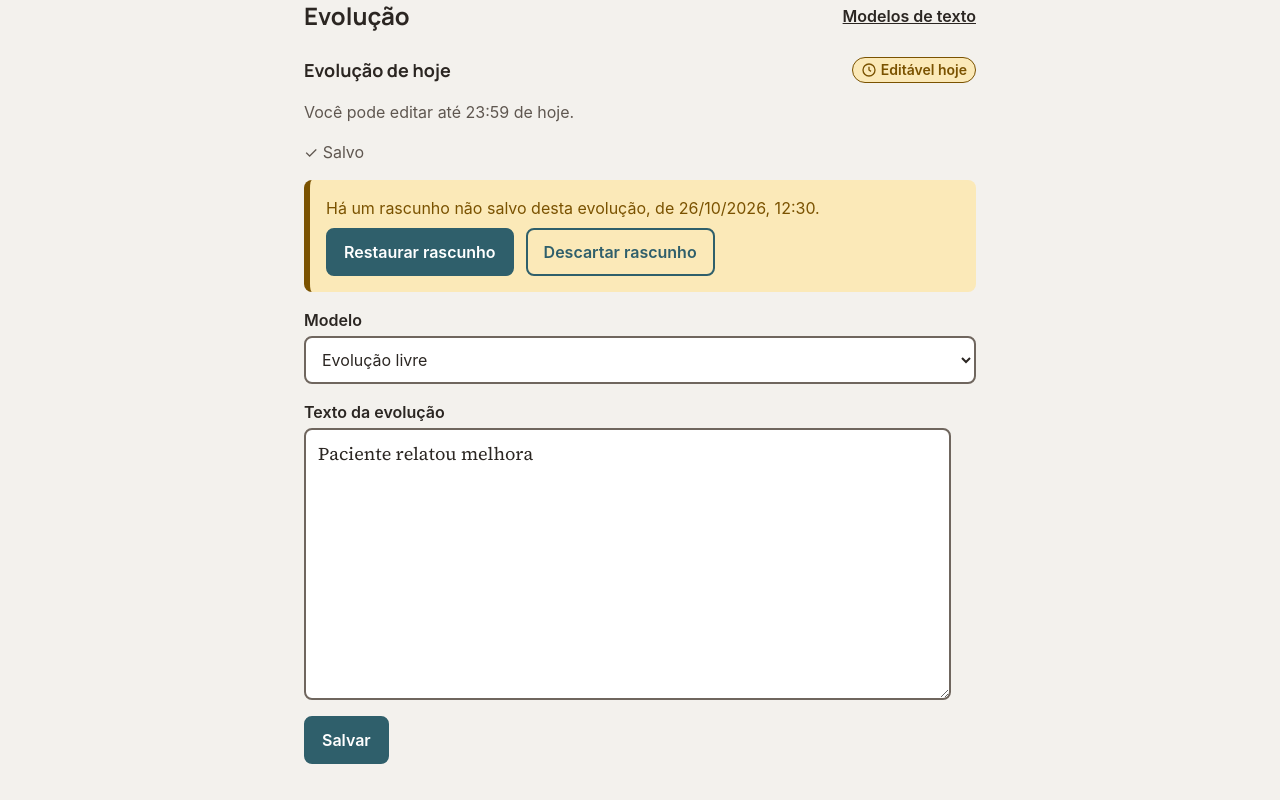
Test: Autosave do rascunho no servidor (RAS-01, RAS-02) › 412 PRECONDITION_FAILED avisa o conflito e não sobrescreve em silêncio
Click the button "Descartar rascunho".
click(620, 252)  # box [526,228,715,276]
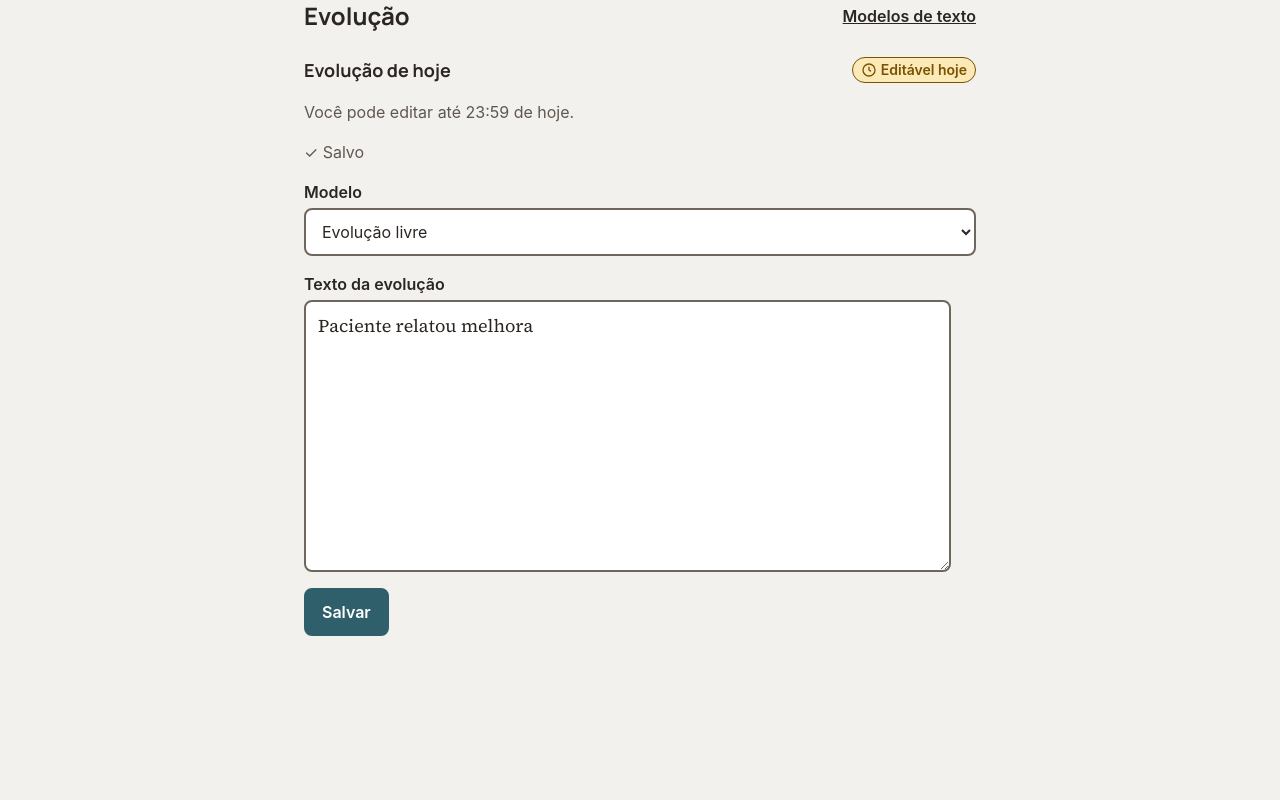
Replace the text in the text box labelled "Texto da evolução" with "Outro texto" at (628, 436), box [304,300,952,572]
Wait 2100 ms
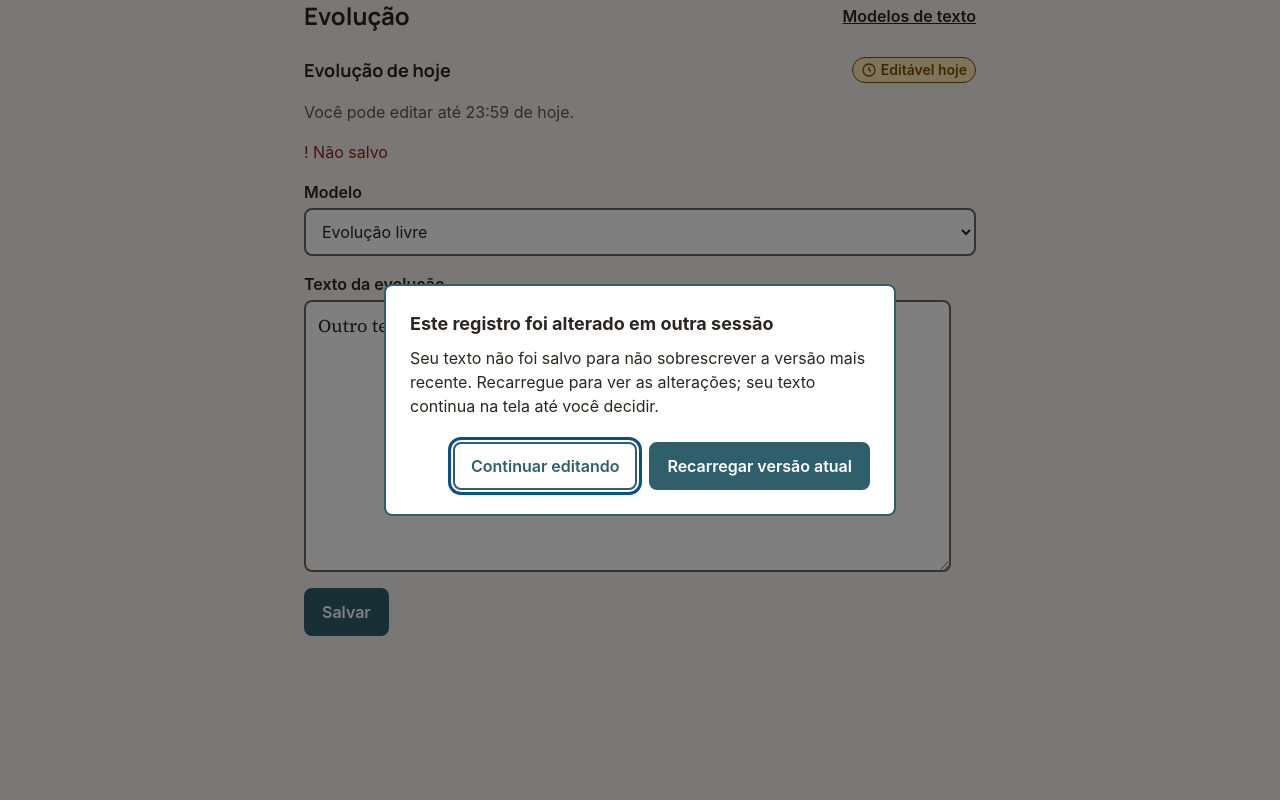
Now the heading "Este registro foi alterado em outra sessão" is shown, box [410,313,774,334]
